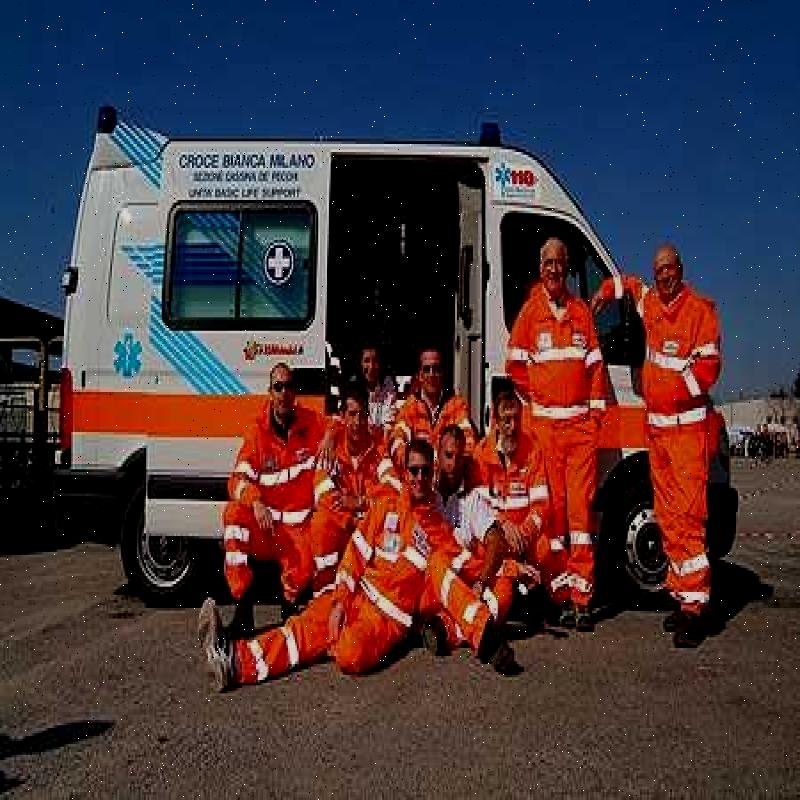AmbulanceSiren: (476, 108, 508, 152)
